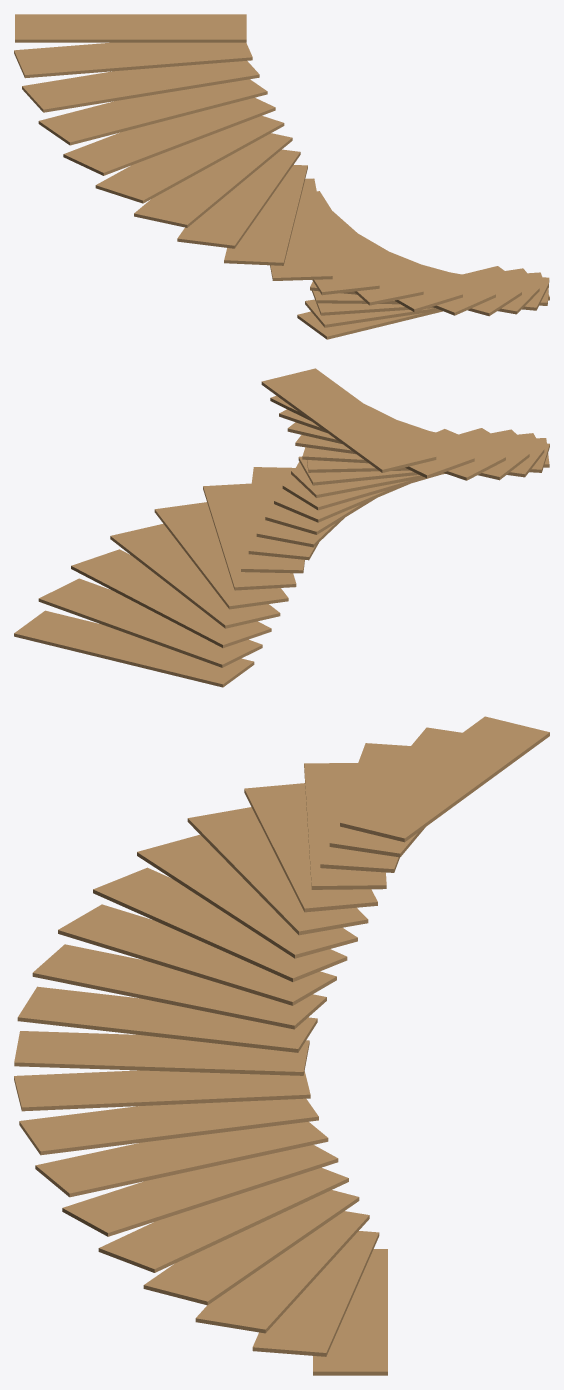
File: Spiral staircases.glb
3 views of the same model, one above another, from view 1: azimuth 30°, elevation 25°; view 2: azimuth 150°, elevation 25°; view 3: azimuth 270°, elevation 25° (orthographic). The views are drawn at different scales.
Visible parts, largest first — view 1: Spiral staircases; view 2: Spiral staircases; view 3: Spiral staircases.
Boxes of the visible parts, x1=… form: Spiral staircases: x1=14, y1=14, x2=549, y2=339; Spiral staircases: x1=14, y1=368, x2=549, y2=687; Spiral staircases: x1=14, y1=716, x2=549, y2=1375.
Bounding box in the file's own units: 2.78 × 1.77 × 2.22.
